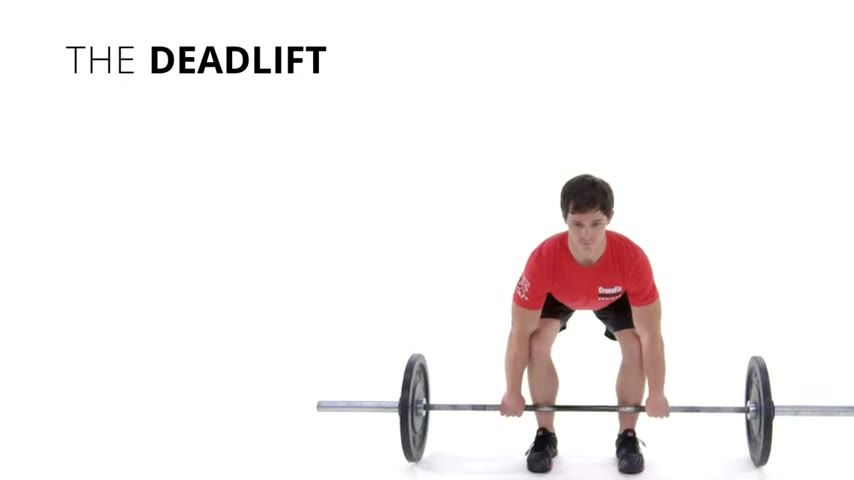barbell_plate_side: (315, 351, 405, 458)
